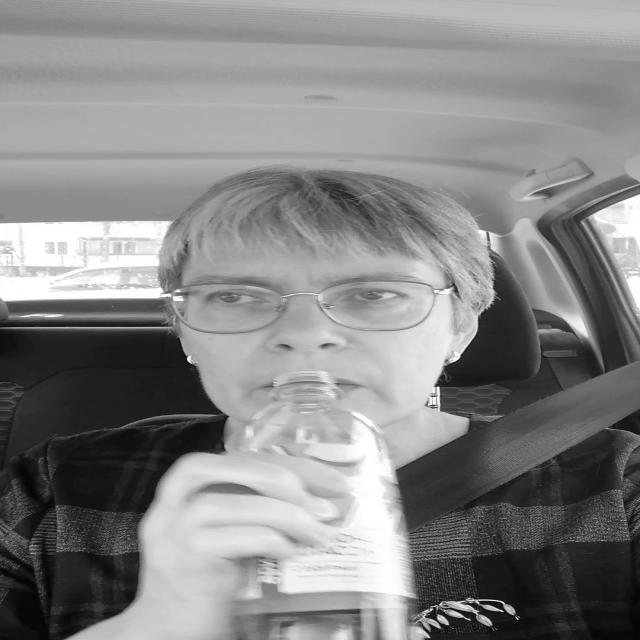Drinking: (216, 366, 411, 633)
Seatbelt: (380, 363, 640, 529)
